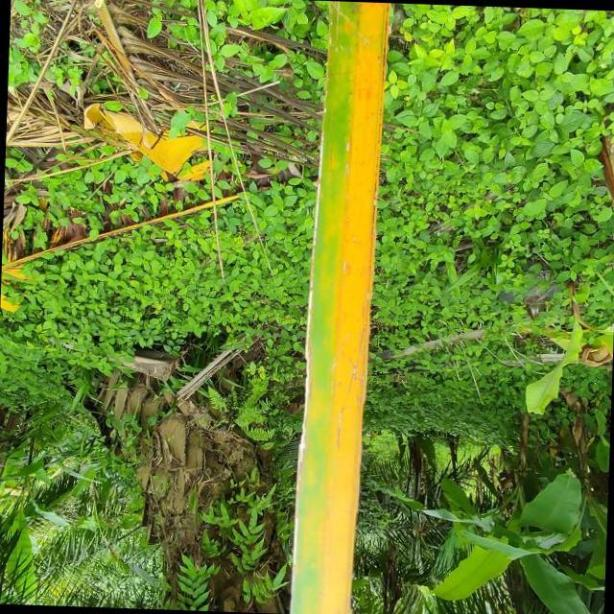Megnesium: (288, 0, 388, 614)
